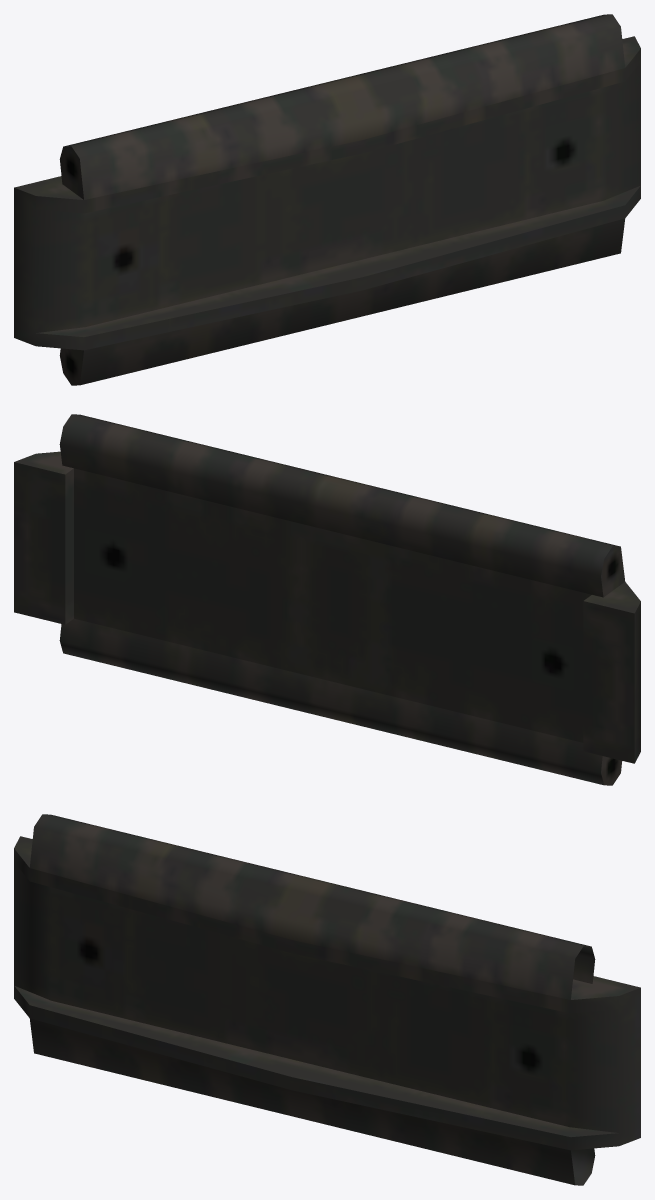
3 views of the same model, one above another, from view 1: azimuth 30°, elevation 25°; view 2: azimuth 150°, elevation 25°; view 3: azimuth 330°, elevation 25° (orthographic).
Visible parts, largest first — view 1: set_0_group_0; view 2: set_0_group_0; view 3: set_0_group_0.
Boxes of the visible parts, x1=… form: set_0_group_0: x1=14, y1=14, x2=640, y2=385; set_0_group_0: x1=14, y1=414, x2=640, y2=785; set_0_group_0: x1=14, y1=814, x2=640, y2=1185.
Bounding box in the file's own units: 0.55 × 0.2025 × 0.0591.
1 material, 1 textured.
